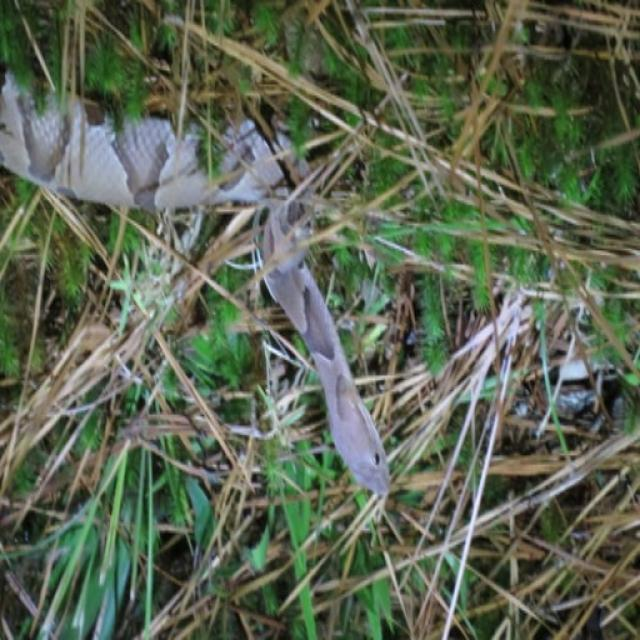snake: (0, 53, 402, 510)
